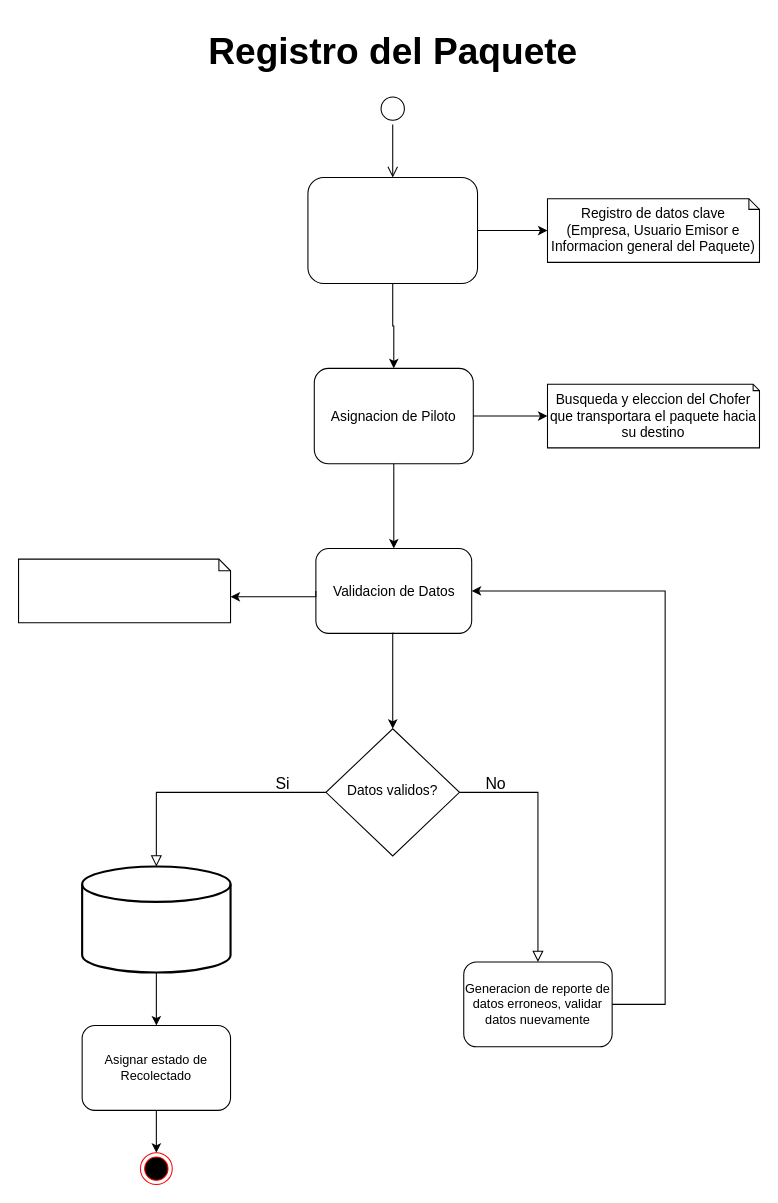
This 778x1203 diagram has some shape labels left out. The shapes that lost their labels are listed below. From the top down, each one's box as (x1, y1, x2, y2) in pixels, then its label:
(307, 176, 478, 284): Registro de Informacion
(17, 558, 231, 623): Revision de los datos de entrega y los datos propios del paquete
(81, 865, 231, 973): Guardar informacion del envio
